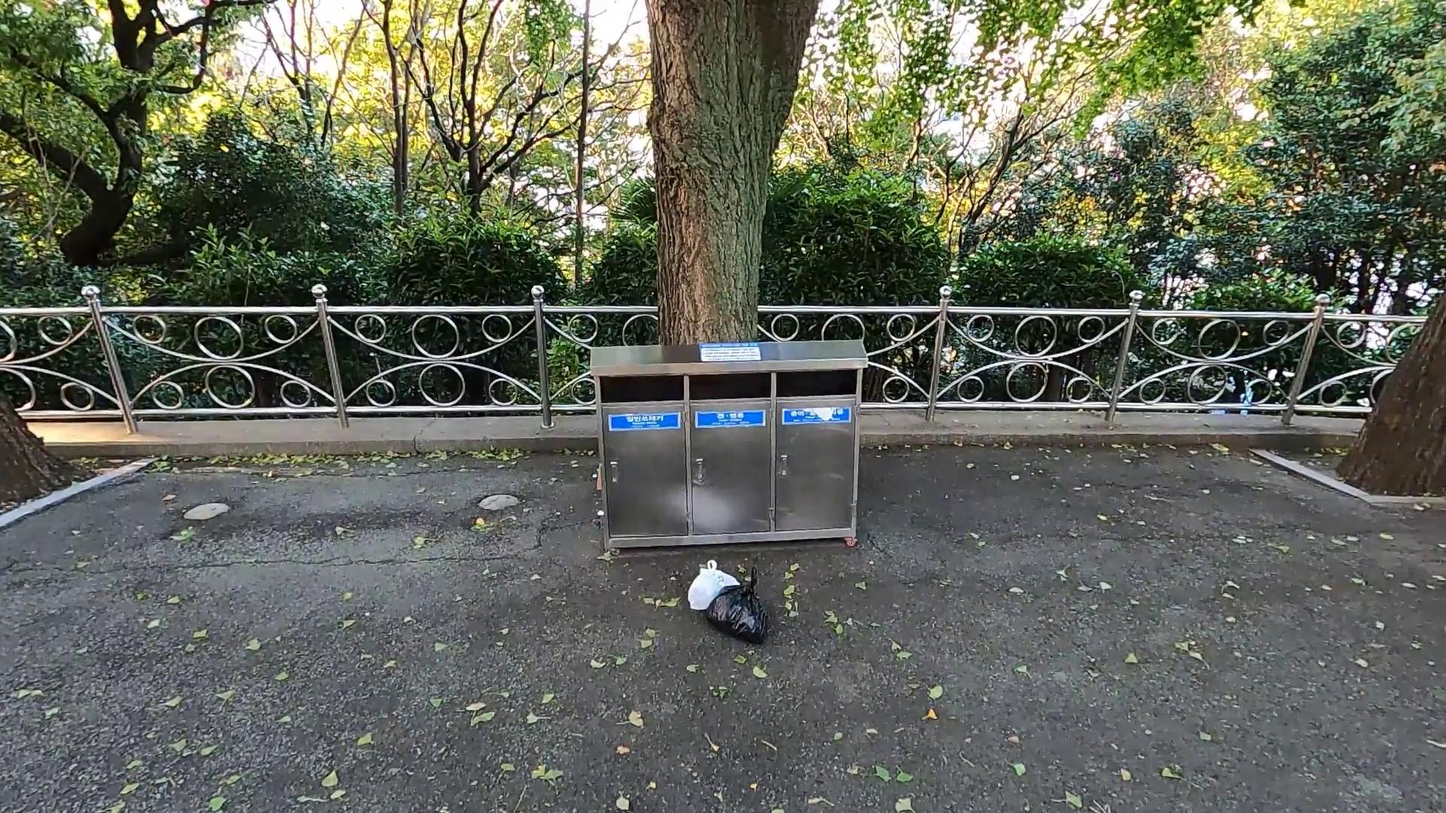trash: (704, 566, 771, 644), (688, 560, 744, 613)
